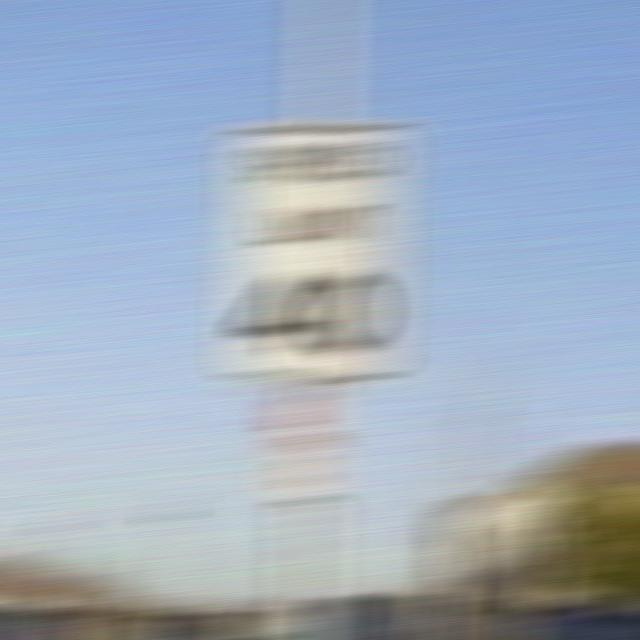speedLimit40: (230, 131, 400, 367)
